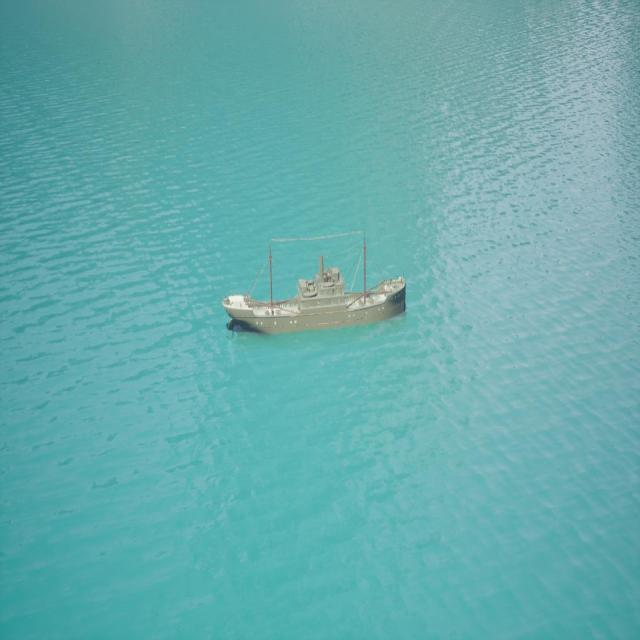fishing ship: (225, 234, 406, 340)
